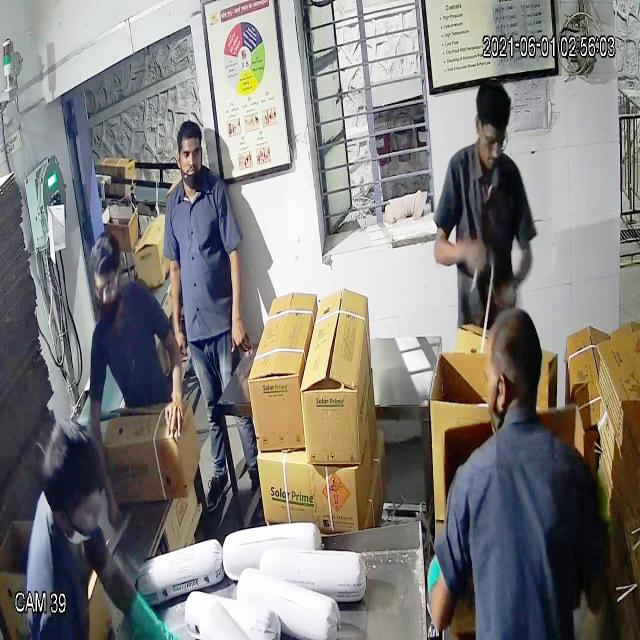glasses: (473, 120, 513, 159)
